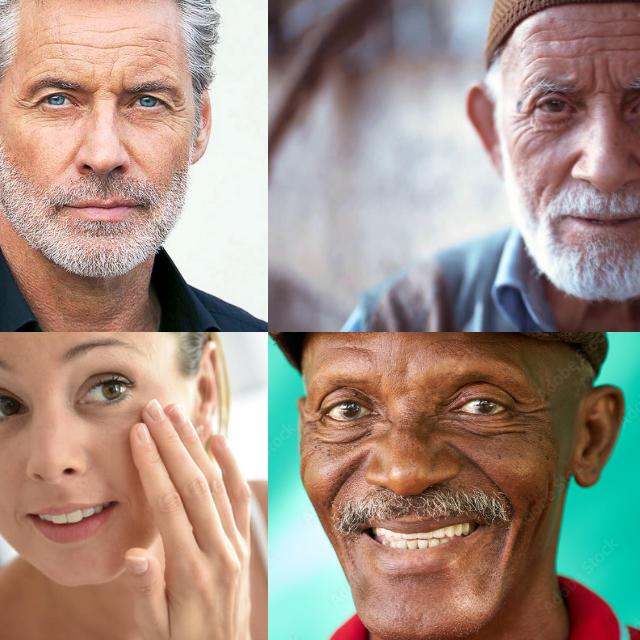crows_feet: (515, 395, 543, 431), (12, 92, 36, 120), (302, 409, 326, 436), (513, 108, 533, 136), (170, 97, 187, 127)
forehead: (37, 28, 84, 56), (139, 29, 169, 62), (528, 50, 578, 66), (538, 29, 584, 46), (95, 36, 129, 56), (580, 14, 620, 31), (332, 341, 372, 357), (591, 27, 621, 45), (610, 40, 640, 56), (630, 25, 640, 44)
frown_line: (90, 81, 120, 102), (601, 64, 617, 92), (586, 66, 602, 90)
gummy_smile: (455, 446, 493, 484), (327, 464, 353, 504), (560, 150, 578, 183), (634, 153, 640, 188)
sad_smile: (9, 508, 27, 530), (120, 490, 136, 514)
